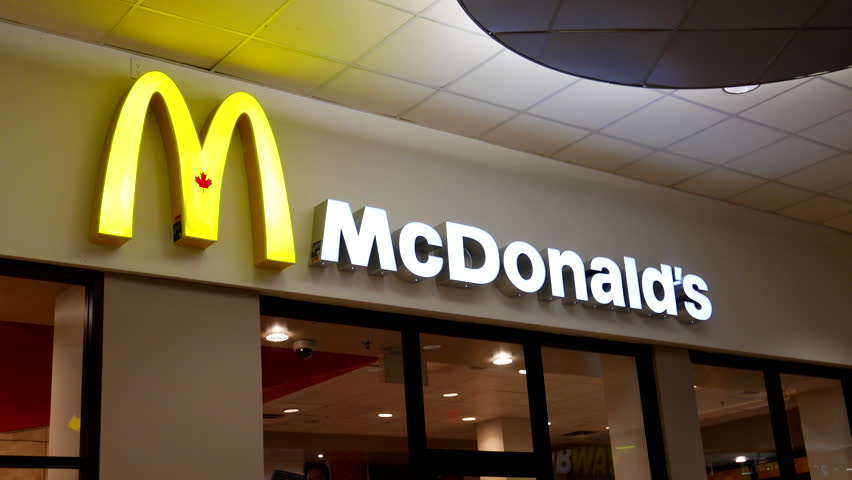mcdonalds: (89, 61, 303, 273)
